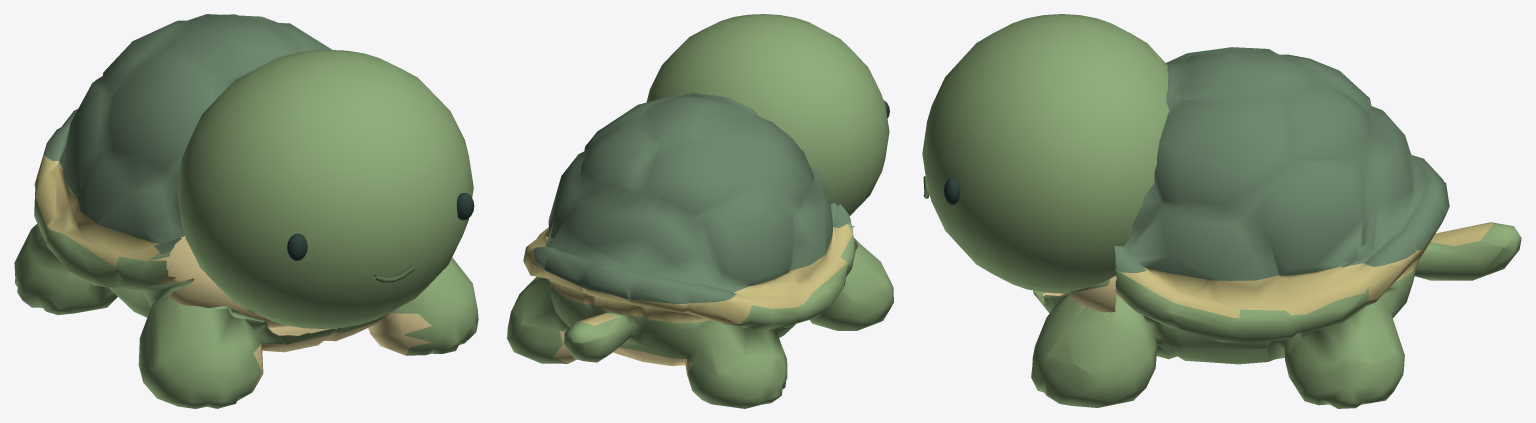
Rendered from turtle.glb.
3 views of the same model, side by side, from view 1: azimuth 30°, elevation 25°; view 2: azimuth 150°, elevation 25°; view 3: azimuth 270°, elevation 25° (orthographic). The views are drawn at different scales.
Visible parts, largest first — view 1: pet-skin, pet-shell, pet-belly, pet-rim, Eye left; view 2: pet-skin, pet-shell, pet-rim, pet-belly; view 3: pet-skin, pet-shell, pet-rim, pet-belly.
Part boxes in pixels (box(x1,y1,x2,y2)): pet-skin: box(14, 49, 478, 408); pet-shell: box(44, 14, 331, 254); pet-belly: box(149, 236, 431, 391); pet-rim: box(35, 152, 193, 283); Eye left: box(287, 233, 307, 260); pet-skin: box(507, 14, 893, 408); pet-shell: box(533, 93, 850, 303); pet-rim: box(525, 224, 852, 325); pet-belly: box(553, 331, 692, 388); pet-skin: box(922, 14, 1521, 408); pet-shell: box(1114, 47, 1449, 280); pet-rim: box(1113, 222, 1492, 317); pet-belly: box(1043, 275, 1163, 357).
Size of the model in its own units: 0.72 by 0.6329 by 1.12.
